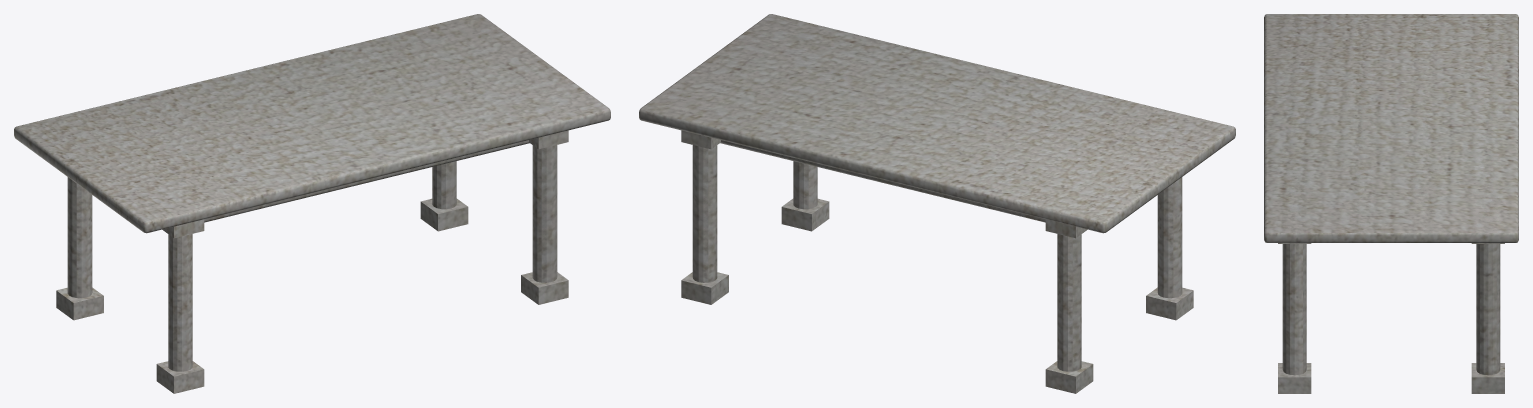
The model's file is Antique_Table_06.fbx.
3 renders of one model, left to right at view 1: azimuth 30°, elevation 25°; view 2: azimuth 150°, elevation 25°; view 3: azimuth 270°, elevation 25°, orthographic. The views are drawn at different scales.
Parts seen in each view (by area): view 1: Antique_Table; view 2: Antique_Table; view 3: Antique_Table.
Boxes of the visible parts, bbox=[...] form: Antique_Table: bbox=[14, 14, 610, 393]; Antique_Table: bbox=[639, 14, 1235, 393]; Antique_Table: bbox=[1264, 14, 1518, 393].
Bounding box in the file's own units: 1.98 × 0.75 × 0.97.
Materials: 1 (1 with a texture image).
